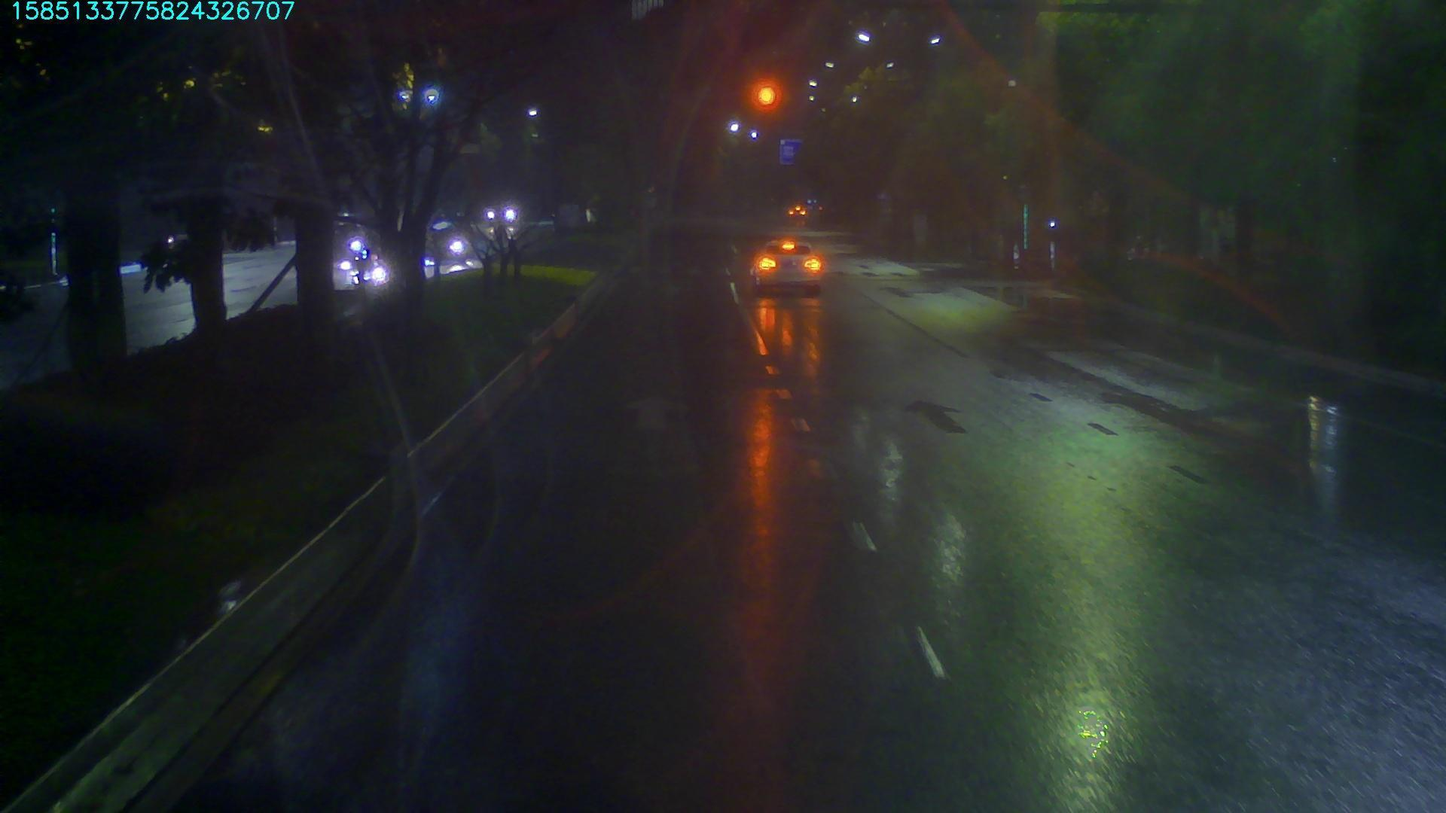red: (751, 78, 782, 115)
